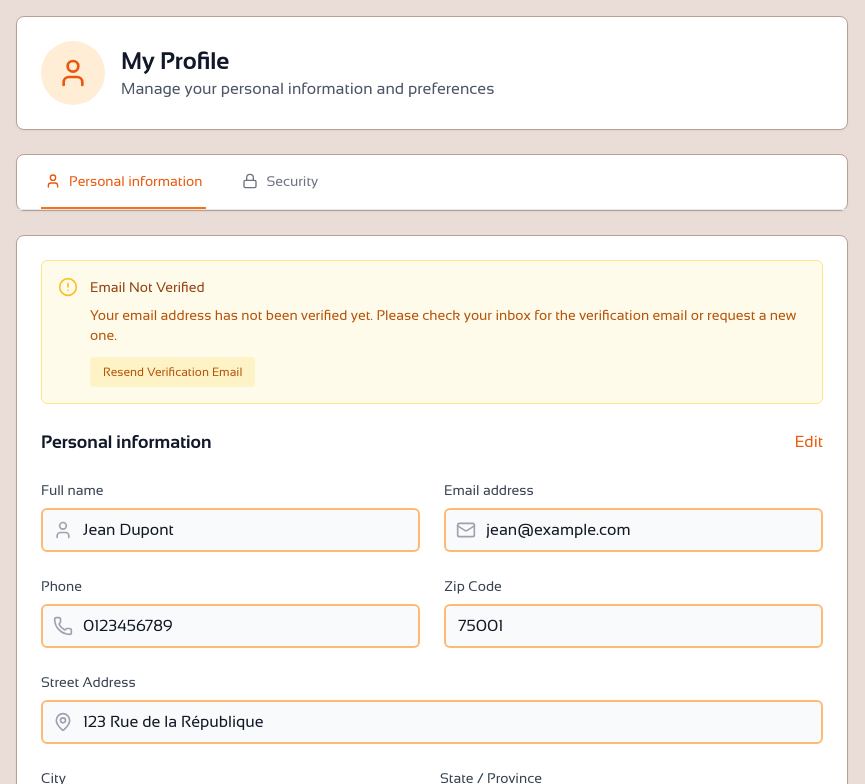
Scenario: Profile Component › Initial Rendering and Navigation › should switch between Personal and Security tabs when clicked
Expected: the text "Full name" is shown, x1=41 y1=482 x2=104 y2=498
Expected: the heading "Change password" is not shown
Note: Click sur l'onglet Security
Click the button "Security": (280, 182) x1=238 y1=155 x2=322 y2=209
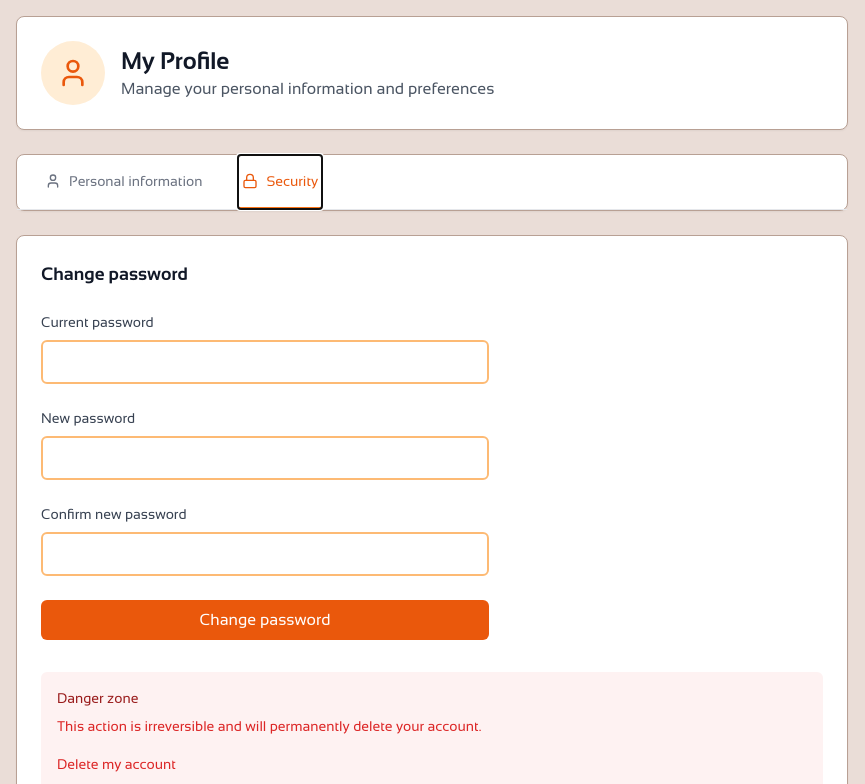
Expected: the heading "Change password" is shown, x1=41 y1=264 x2=188 y2=284
Expected: the password field named "currentPassword" is shown, x1=41 y1=340 x2=489 y2=384
Expected: the button "Delete my account" is shown, x1=57 y1=754 x2=176 y2=774
Note: Revenir à l'onglet personnel
Click the button "Personal information": (124, 182) x1=41 y1=155 x2=206 y2=209
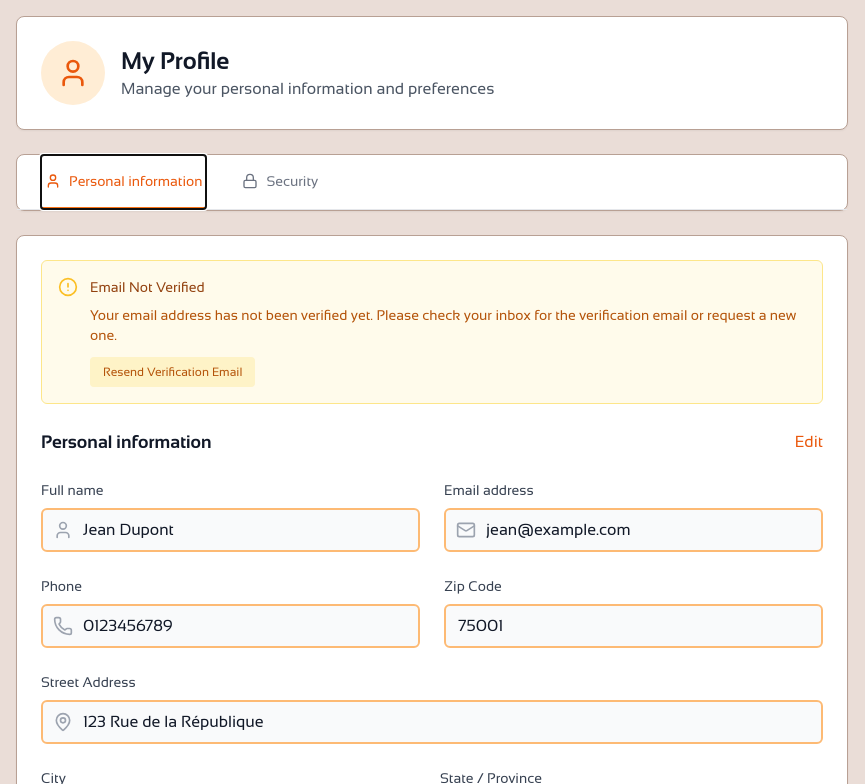
Expected: the text "Full name" is shown, x1=41 y1=482 x2=104 y2=498
Expected: the heading "Change password" is gone
